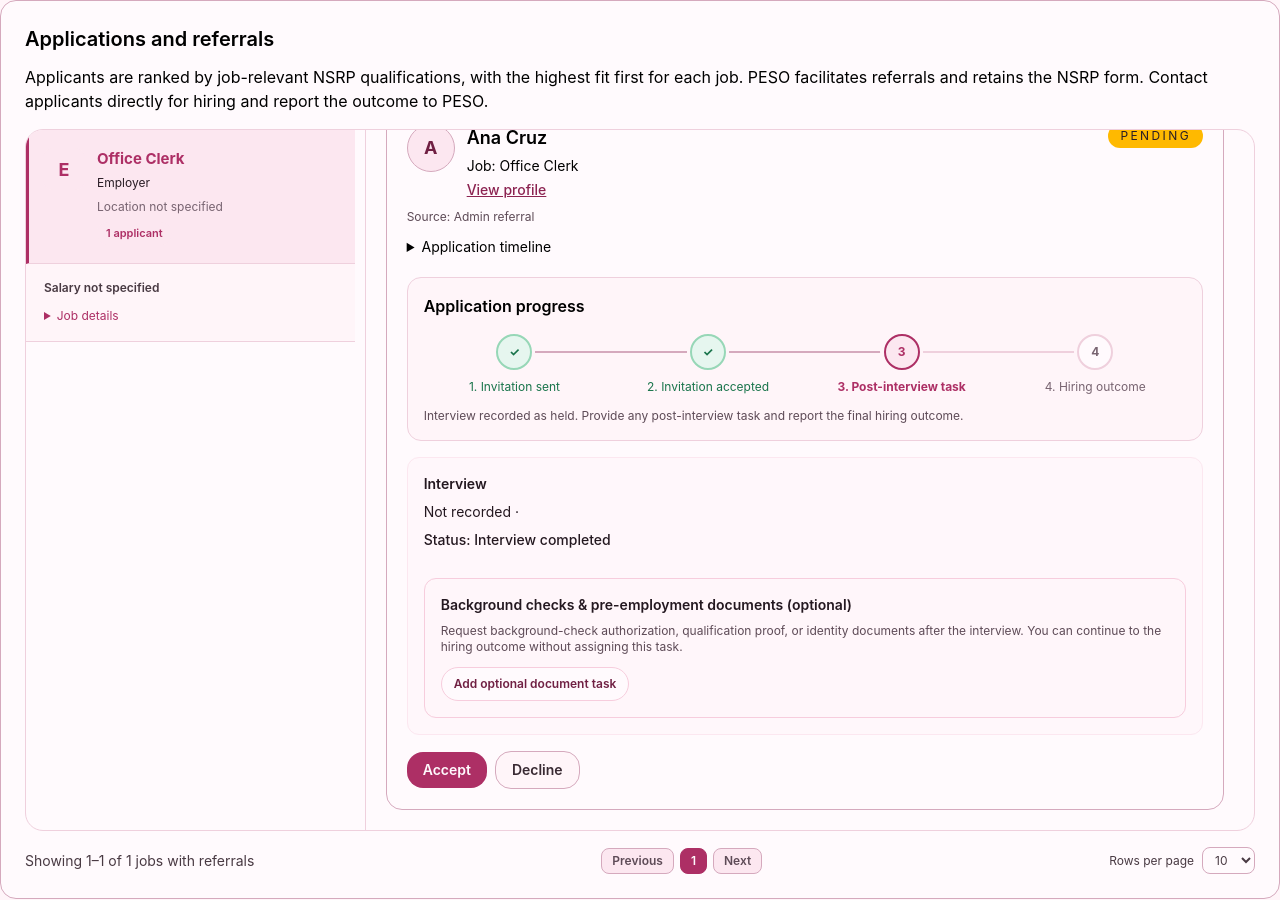
Test: employment updates › keeps referral failures in the styled confirmation and allows a successful retry
The image size is (1280, 900).
(page scrolled)
Click the button "Accept" at (447, 770), box [407,752,487,788]
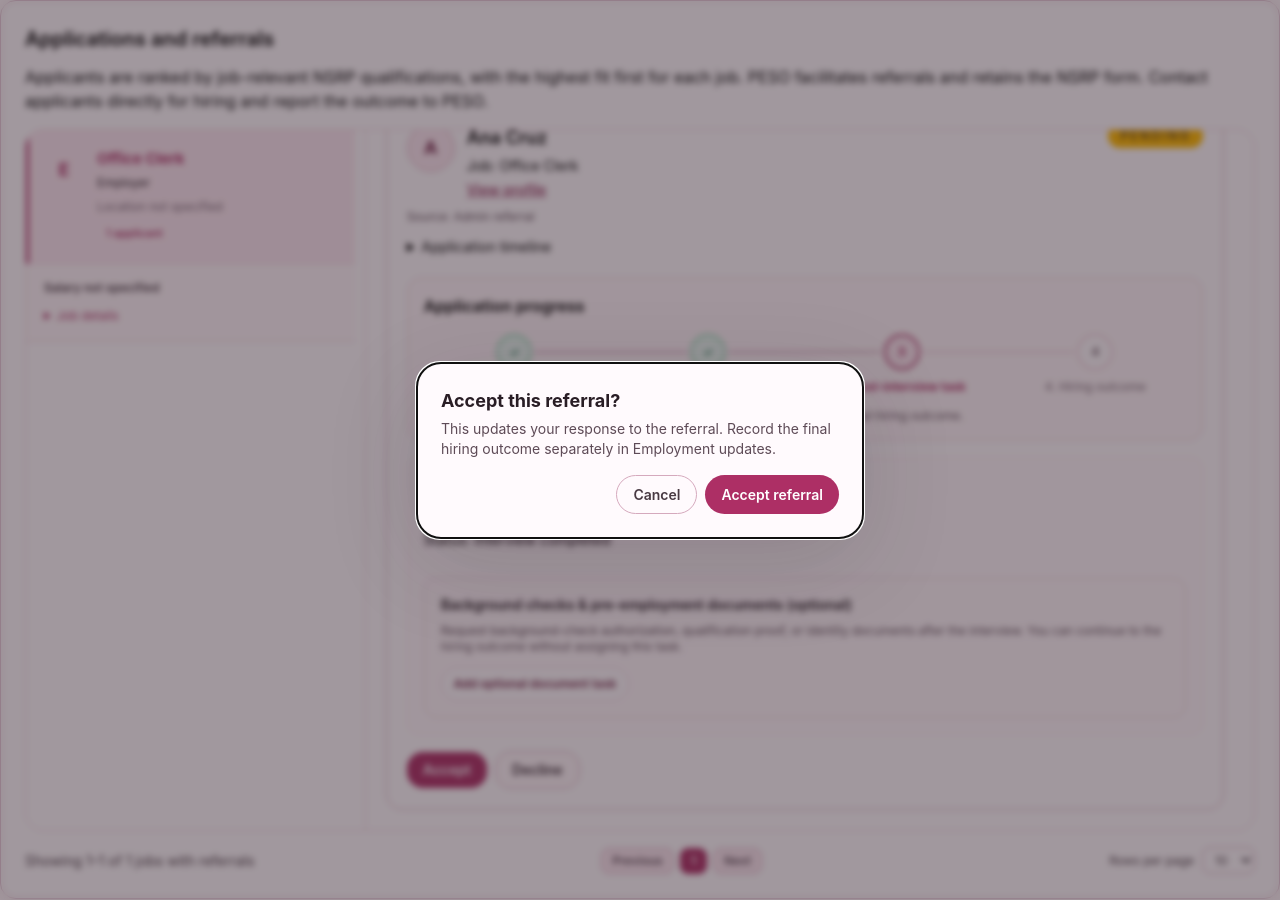
Click the button "Accept referral" at (772, 494), box [706,474,839,514]
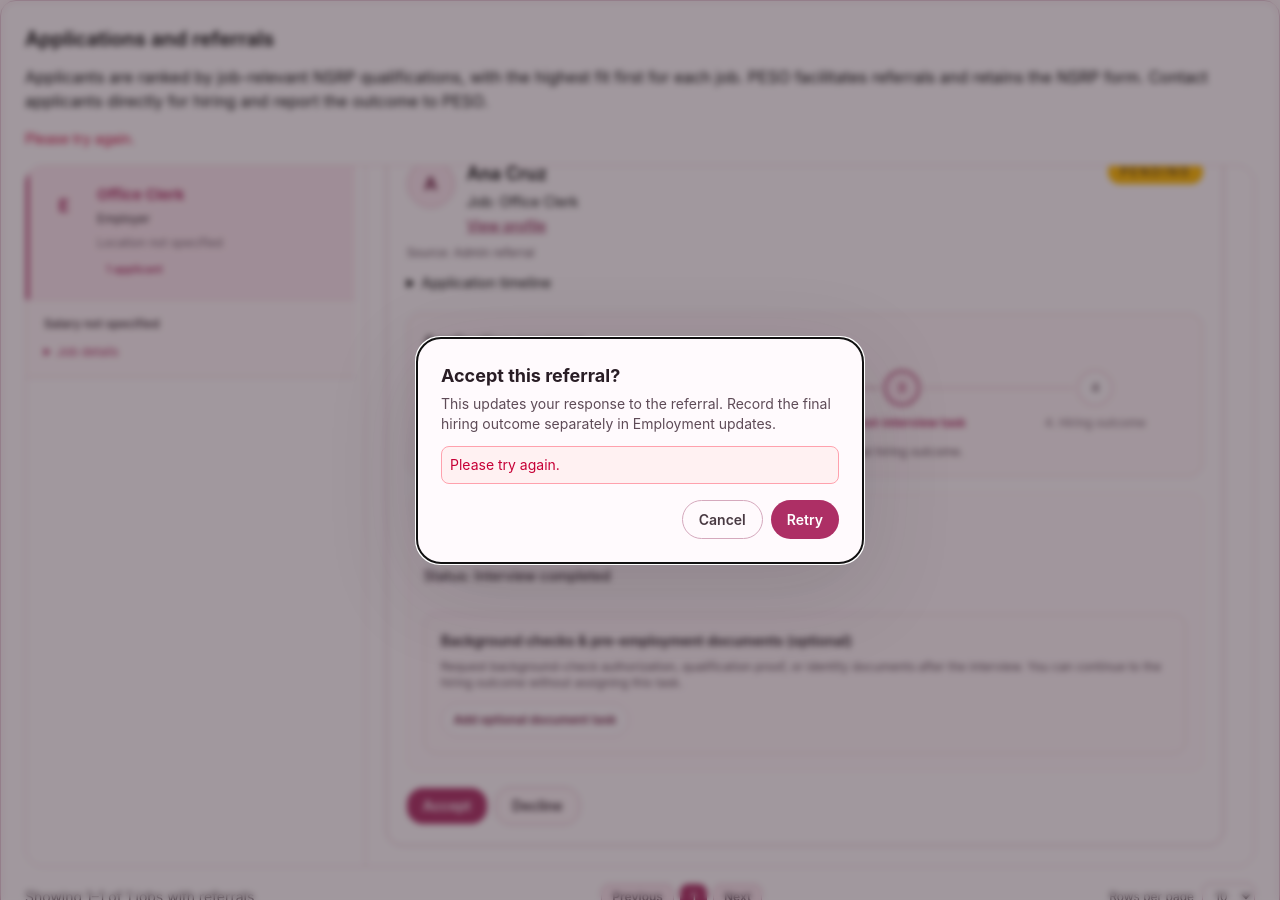
Result: the button "Cancel" is enabled at [682,500,763,538]
Result: the message reads "Please try again." at [450,456,560,472]
Click the button "Retry" at (805, 519), box [771,500,839,538]
(page scrolled)
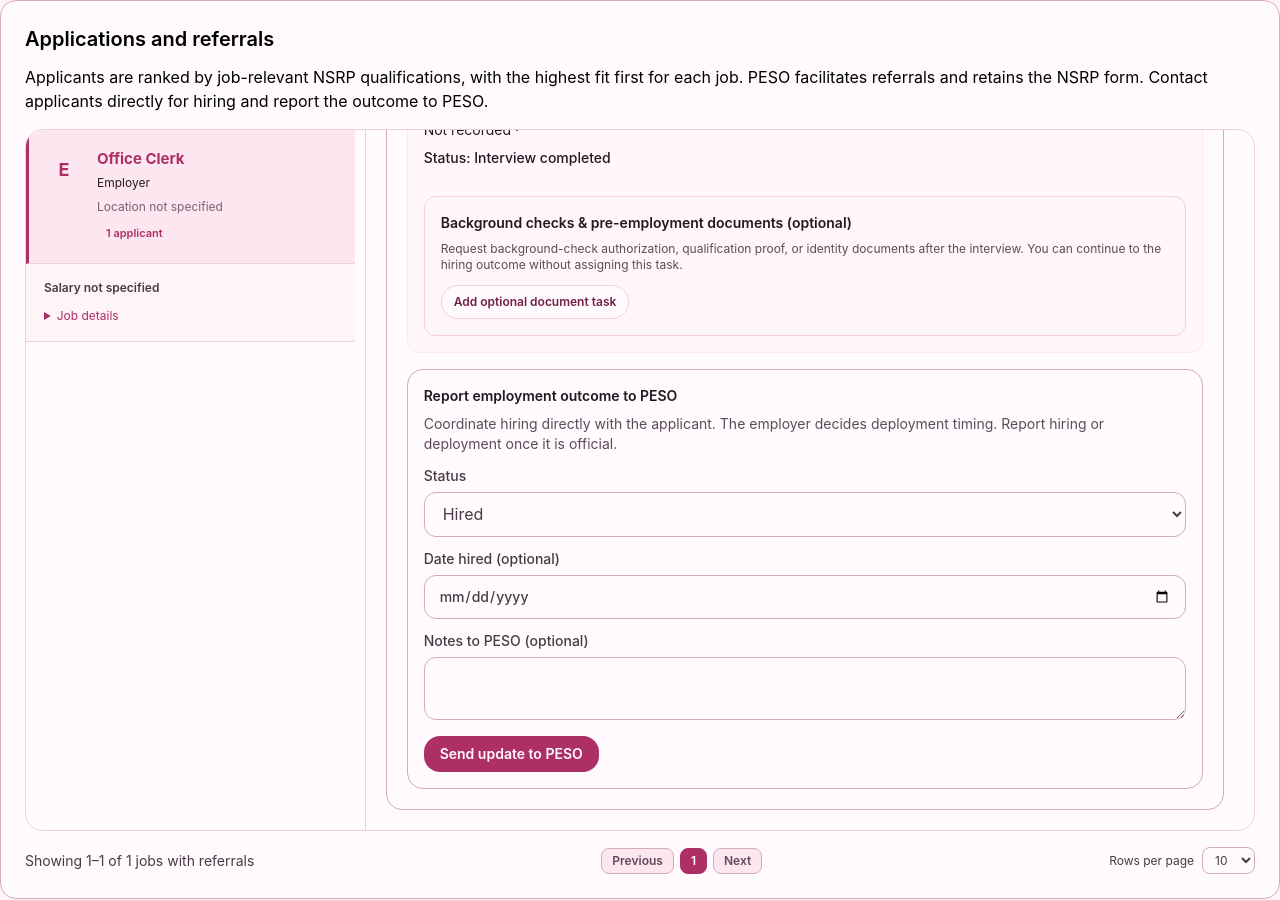
Result: the dialog is gone
Result: the button "Send update to PESO" is shown at [424,736,599,772]
